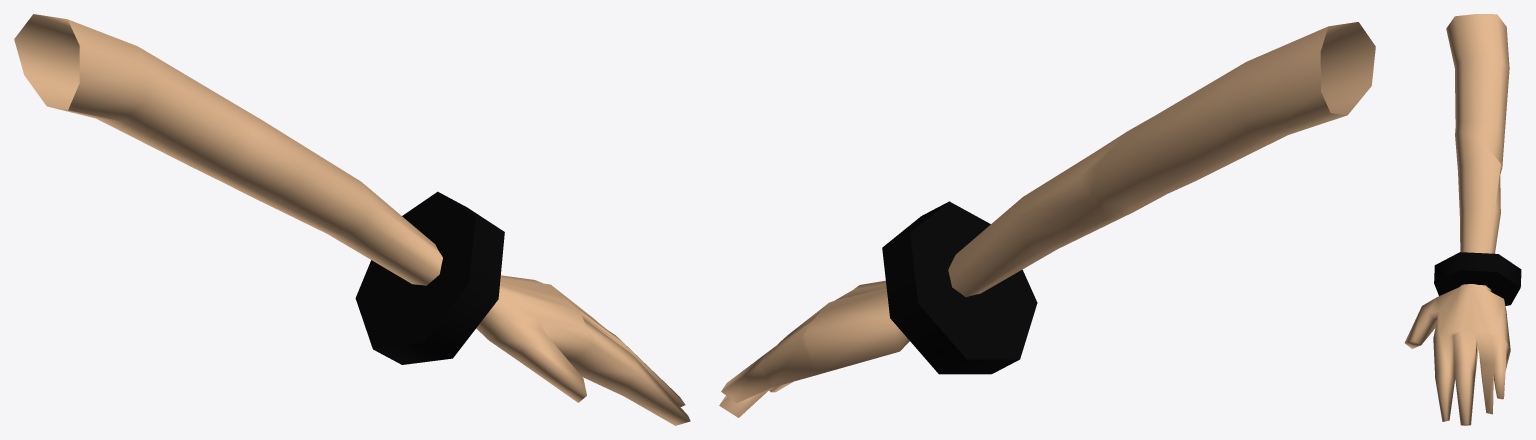
Rendered from BrazoIzq_Sam.obj.
3 renders of one model, left to right at view 1: azimuth 30°, elevation 25°; view 2: azimuth 150°, elevation 25°; view 3: azimuth 270°, elevation 25°, orthographic. The views are drawn at different scales.
Visible parts, largest first — view 1: BrazoIzq_Sam; view 2: BrazoIzq_Sam; view 3: BrazoIzq_Sam.
Part boxes in pixels (box(x1,y1,x2,y2)): BrazoIzq_Sam: box(14, 14, 690, 425); BrazoIzq_Sam: box(719, 22, 1375, 417); BrazoIzq_Sam: box(1404, 14, 1521, 425).
Size of the model in its own units: 4.88 by 3.94 by 1.56.
